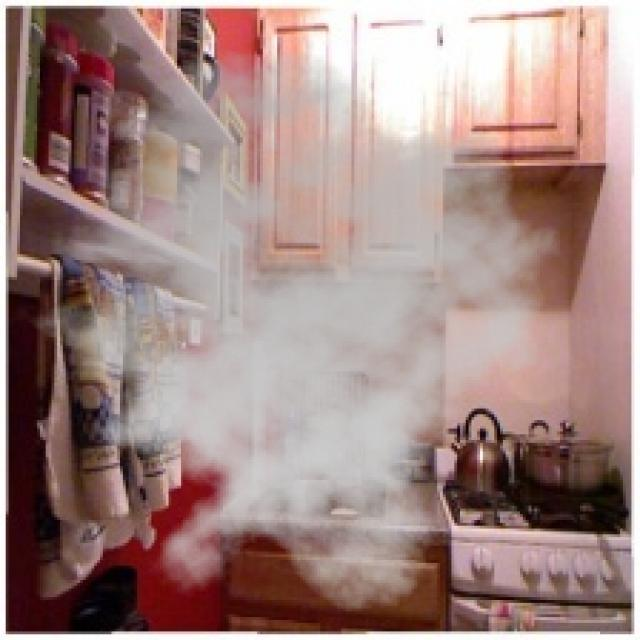smoke: (6, 49, 574, 614)
